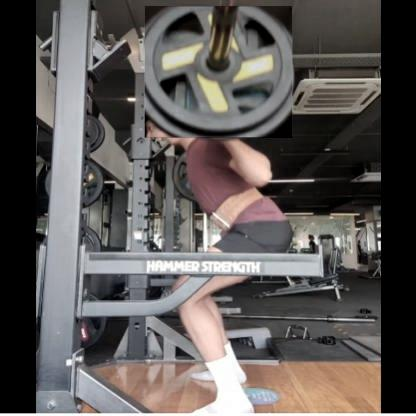barbell: (145, 7, 294, 140)
